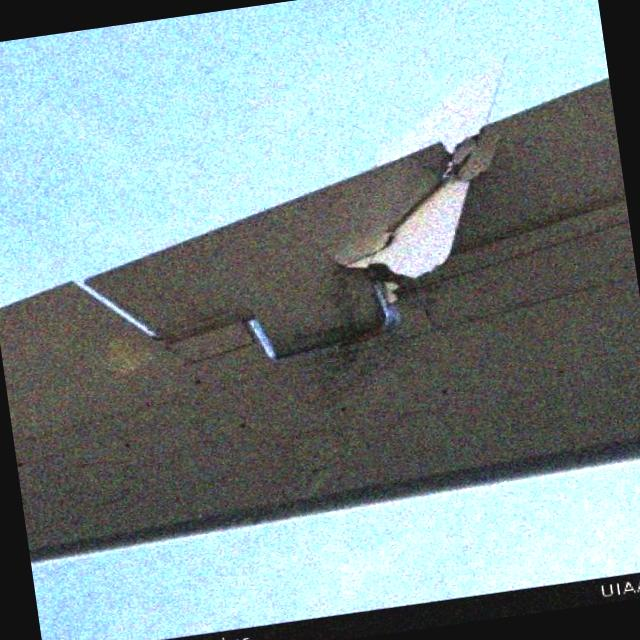crack: (300, 124, 534, 302)
